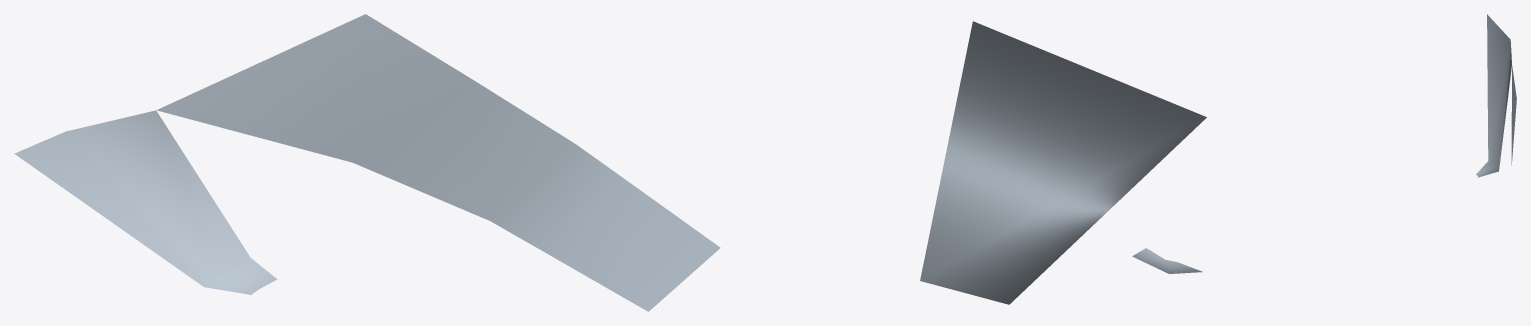
Rendered from dorsal-radiocarpal-ligament-r.glb.
3 views of the same model, side by side, from view 1: azimuth 30°, elevation 25°; view 2: azimuth 150°, elevation 25°; view 3: azimuth 270°, elevation 25° (orthographic). The views are drawn at different scales.
Parts seen in each view (by area): view 1: Dorsal radiocarpal ligament.r; view 2: Dorsal radiocarpal ligament.r; view 3: Dorsal radiocarpal ligament.r.
Boxes of the visible parts, bbox=[...] form: Dorsal radiocarpal ligament.r: bbox=[14, 14, 720, 311]; Dorsal radiocarpal ligament.r: bbox=[920, 21, 1206, 304]; Dorsal radiocarpal ligament.r: bbox=[1476, 14, 1516, 177].
Bounding box in the file's own units: 0.0333 × 0.0142 × 0.00642.
